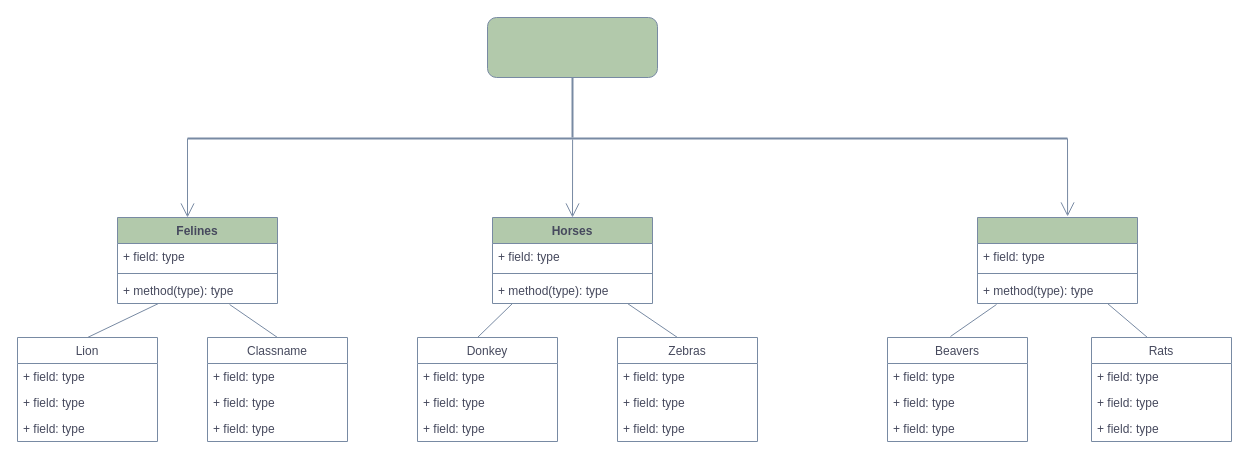
The diagram is 1249 pixels wide and 462 high, and some of its shapes have lost their labels. The box of each missing label's shape, as (x1, y1, x2, y2) in pixels:
Animals: (486, 16, 658, 78)
Rodents: (976, 216, 1138, 304)
